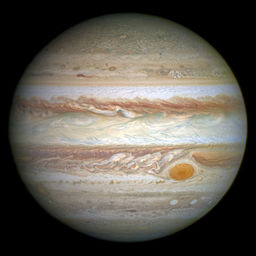planet: (11, 13, 250, 243)
